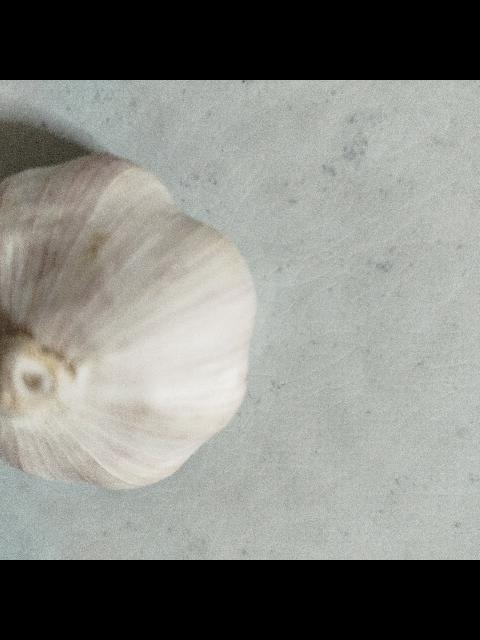garlic: (0, 151, 256, 490)
